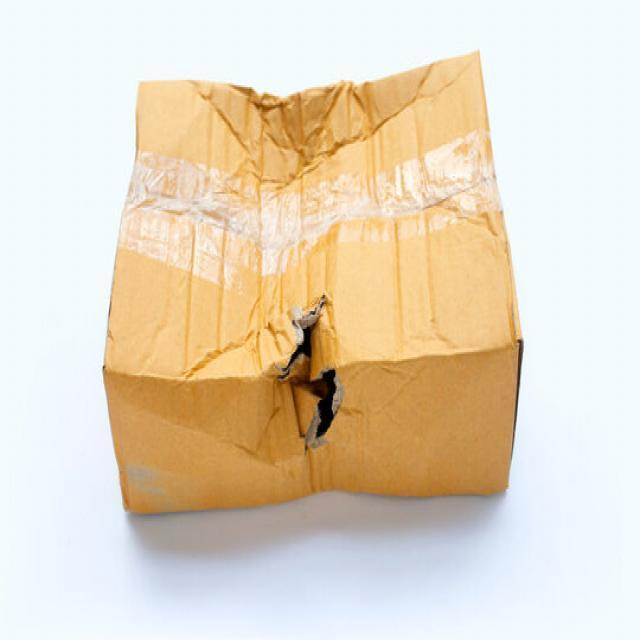damaged: (272, 295, 352, 448)
